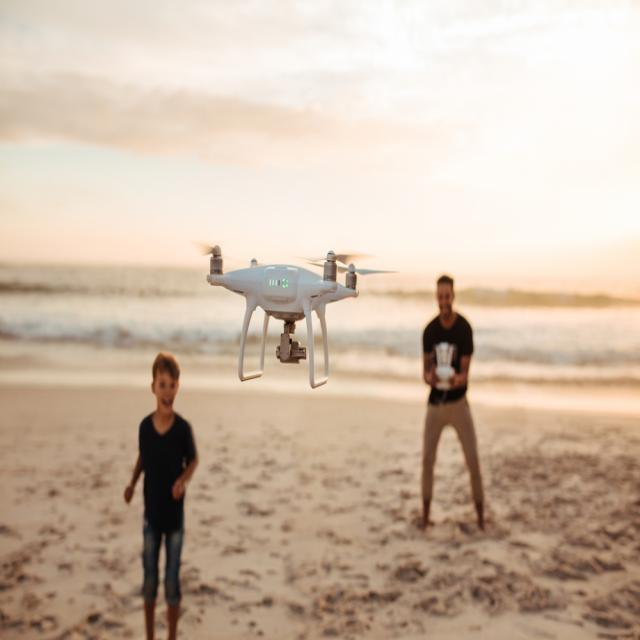drones: (176, 229, 402, 399)
